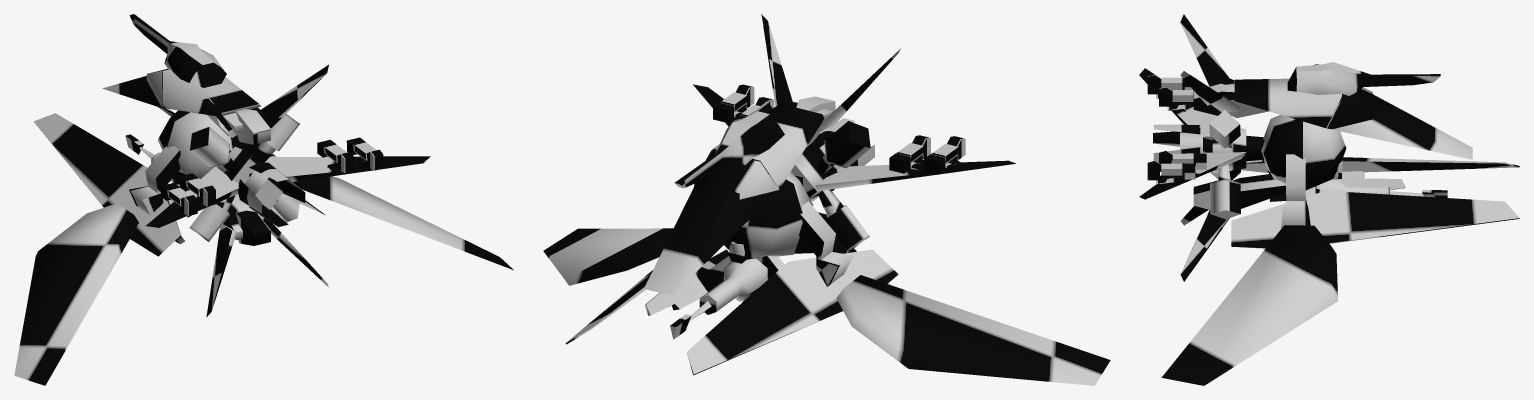
The model's file is pet_9.obj.
3 renders of one model, left to right at view 1: azimuth 30°, elevation 25°; view 2: azimuth 150°, elevation 25°; view 3: azimuth 270°, elevation 25°, orthographic. The views are drawn at different scales.
Visible parts, largest first — view 1: main; view 2: main; view 3: main.
Part boxes in pixels (bbox=[...]): main: bbox=[14, 14, 513, 385]; main: bbox=[543, 14, 1110, 385]; main: bbox=[1139, 14, 1519, 385].
Size of the model in its own units: 111 by 53.37 by 79.44.
1 material, 1 textured.
